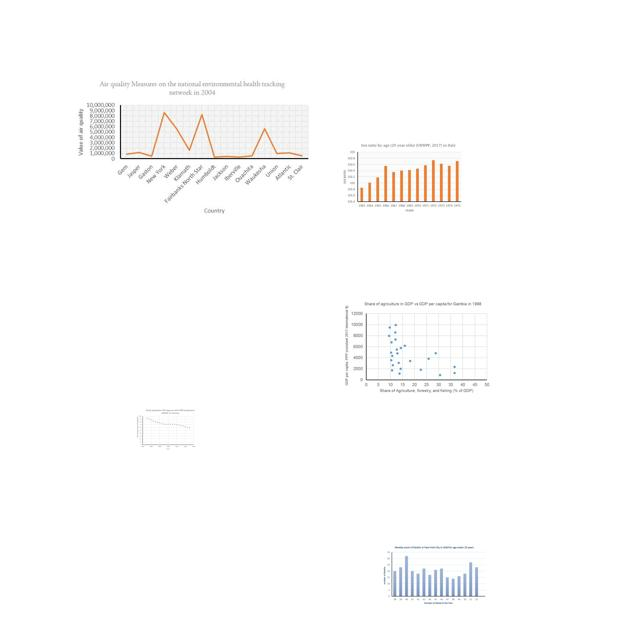Graph: (73, 78, 312, 218), (343, 297, 491, 396), (340, 142, 464, 214), (381, 544, 488, 607), (136, 408, 197, 451)
